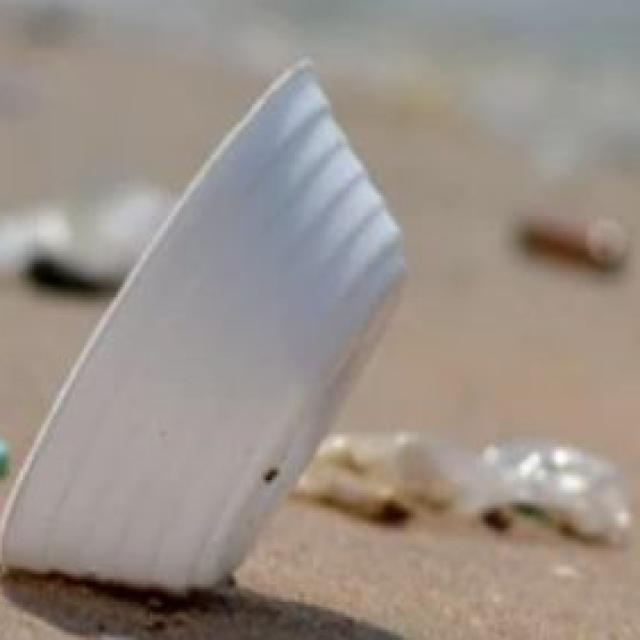electronic: (0, 56, 406, 600)
